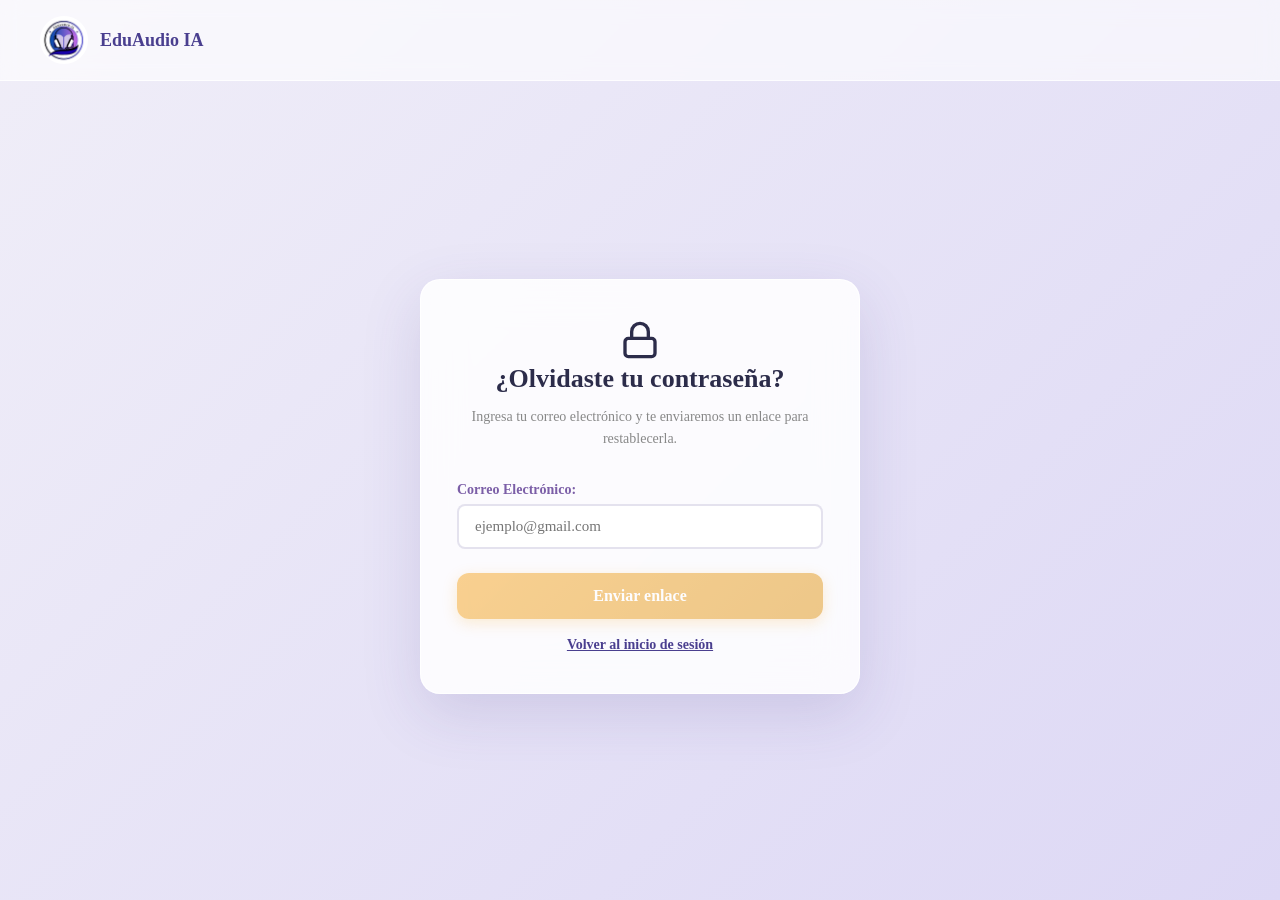
Test case: ForgotPassword › habilita el botón al escribir un correo
Type "karina@test.com" into the field with placeholder "ejemplo@gmail.com" at (640,527), box x1=457 y1=504 x2=823 y2=549
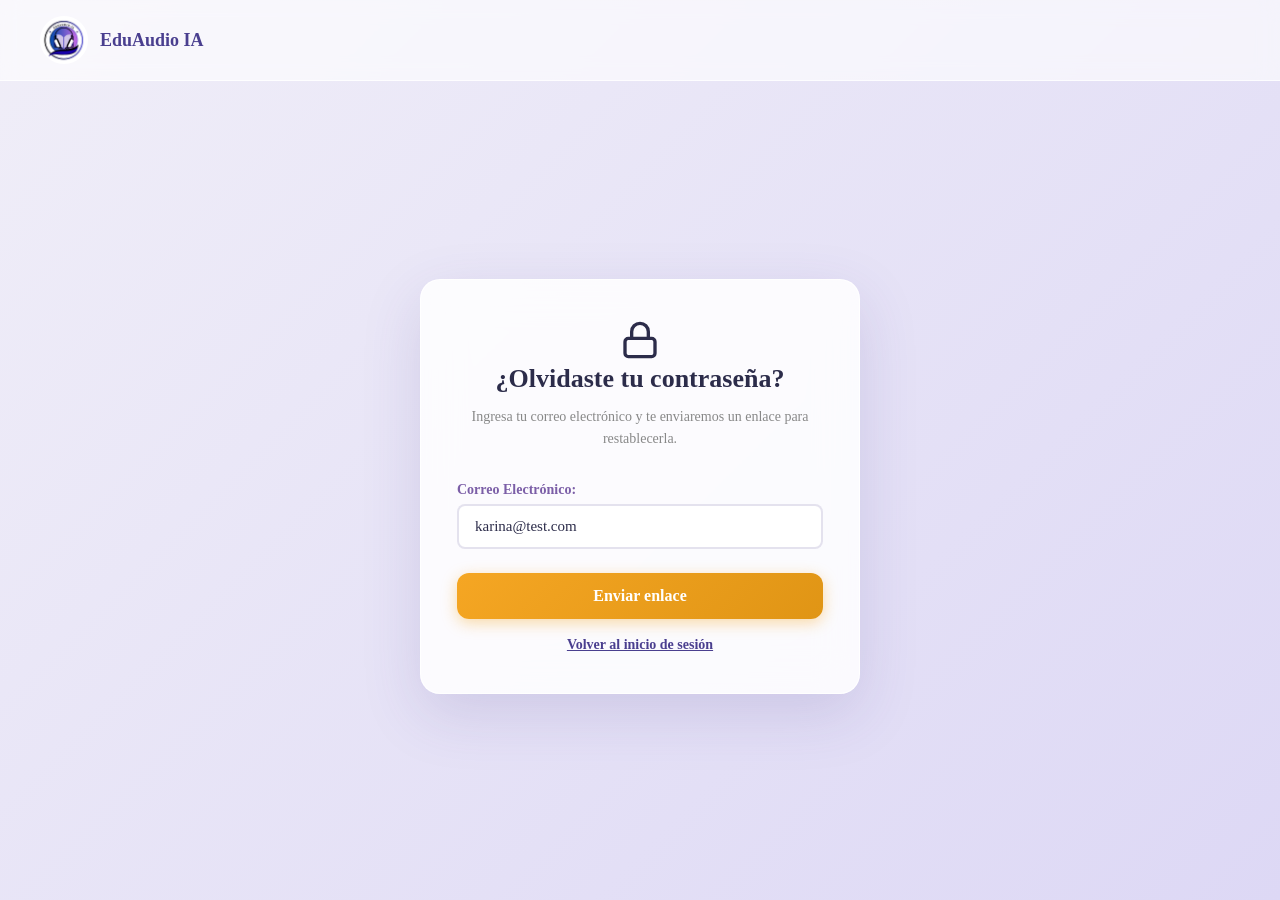
Expected: the button "Enviar enlace" is enabled, x1=457 y1=573 x2=823 y2=619
